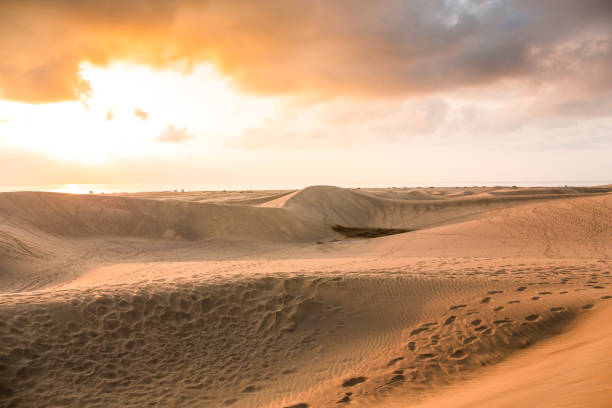human_foot_print: (0, 271, 333, 406), (476, 294, 502, 312), (339, 372, 364, 388), (406, 325, 429, 338), (494, 319, 518, 329), (450, 345, 467, 358), (474, 324, 492, 336), (528, 314, 546, 326), (406, 341, 420, 355), (446, 314, 460, 328), (386, 357, 402, 369), (383, 382, 413, 388), (450, 304, 465, 314), (552, 306, 568, 312)
